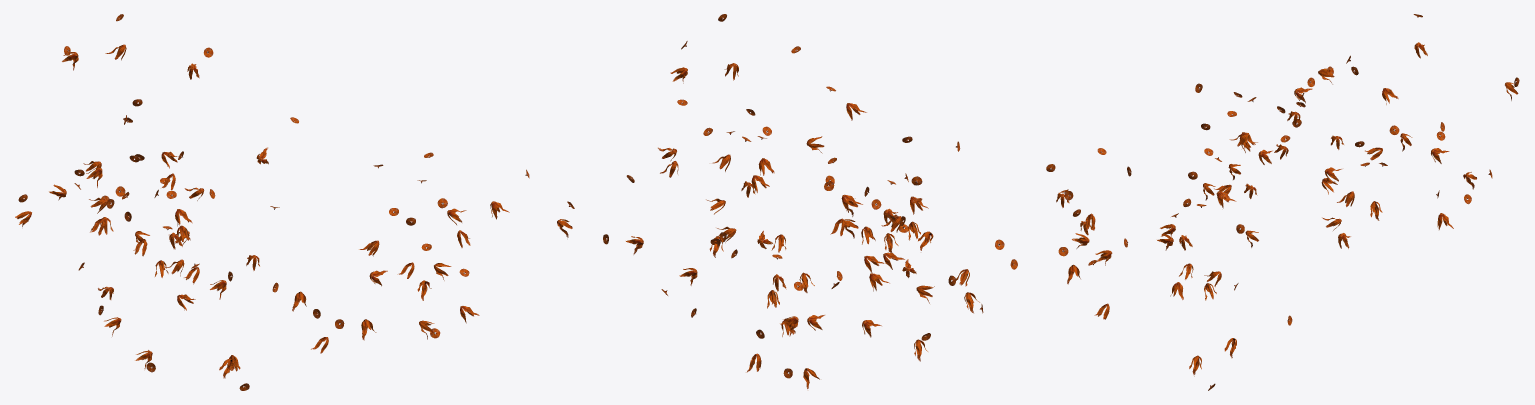
The model's file is tableFlower3.glb.
The picture shows the model from 3 angles, left to right: view 1: azimuth 30°, elevation 25°; view 2: azimuth 150°, elevation 25°; view 3: azimuth 270°, elevation 25°; orthographic projection. The views are drawn at different scales.
Parts seen in each view (by area): view 1: GrowFX01_01 - Default_0.001; view 2: GrowFX01_01 - Default_0.001; view 3: GrowFX01_01 - Default_0.001.
Boxes of the visible parts, x1,y1,x2,y2 form: GrowFX01_01 - Default_0.001: (15, 14, 574, 390); GrowFX01_01 - Default_0.001: (603, 14, 1017, 388); GrowFX01_01 - Default_0.001: (1046, 14, 1519, 390).
Bounding box in the file's own units: 0.8241 × 0.5661 × 0.866.
1 material, 1 textured.
